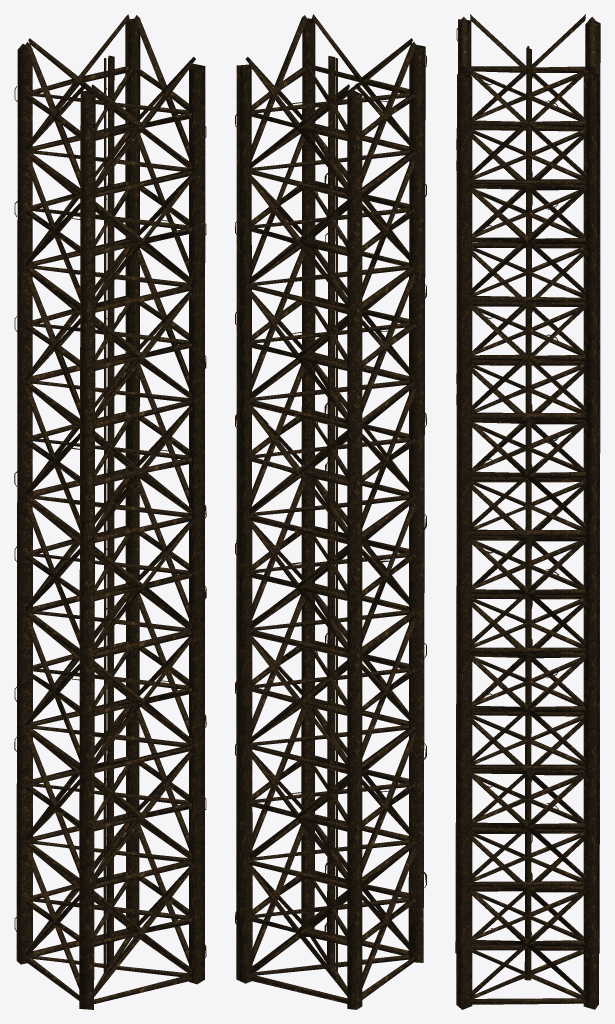
File: oilRig_dream_LOD.fbx
3 renders of one model, left to right at view 1: azimuth 30°, elevation 25°; view 2: azimuth 150°, elevation 25°; view 3: azimuth 270°, elevation 25°, orthographic.
Visible parts, largest first — view 1: oilrigpier_low03, oilrigpier_low02, oilrigpier_low01, oilrigpier_low00; view 2: oilrigpier_low03, oilrigpier_low02, oilrigpier_low01, oilrigpier_low00; view 3: oilrigpier_low03, oilrigpier_low02, oilrigpier_low01, oilrigpier_low00.
Part boxes in pixels (x1=…): oilrigpier_low03: x1=14, y1=14, x2=206, y2=475; oilrigpier_low02: x1=14, y1=391, x2=206, y2=733; oilrigpier_low01: x1=14, y1=658, x2=206, y2=938; oilrigpier_low00: x1=14, y1=851, x2=206, y2=1009; oilrigpier_low03: x1=235, y1=14, x2=426, y2=474; oilrigpier_low02: x1=235, y1=395, x2=426, y2=733; oilrigpier_low01: x1=235, y1=659, x2=426, y2=937; oilrigpier_low00: x1=235, y1=850, x2=423, y2=1009; oilrigpier_low03: x1=456, y1=14, x2=600, y2=458; oilrigpier_low02: x1=456, y1=400, x2=600, y2=730; oilrigpier_low01: x1=455, y1=672, x2=599, y2=925; oilrigpier_low00: x1=455, y1=879, x2=599, y2=1009.
Bounding box in the file's own units: 28.42 × 202 × 28.27.
